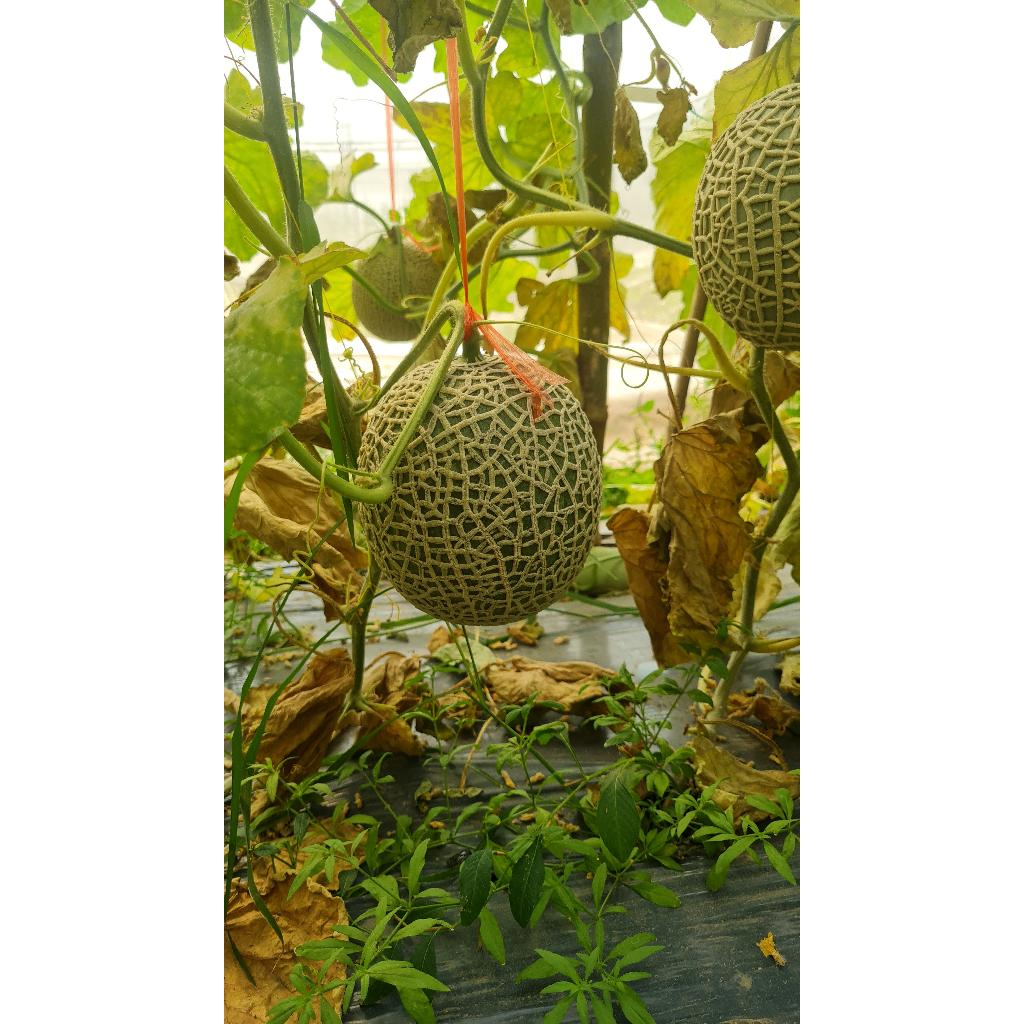melon: (360, 356, 602, 626), (692, 84, 800, 350), (360, 364, 434, 470)
